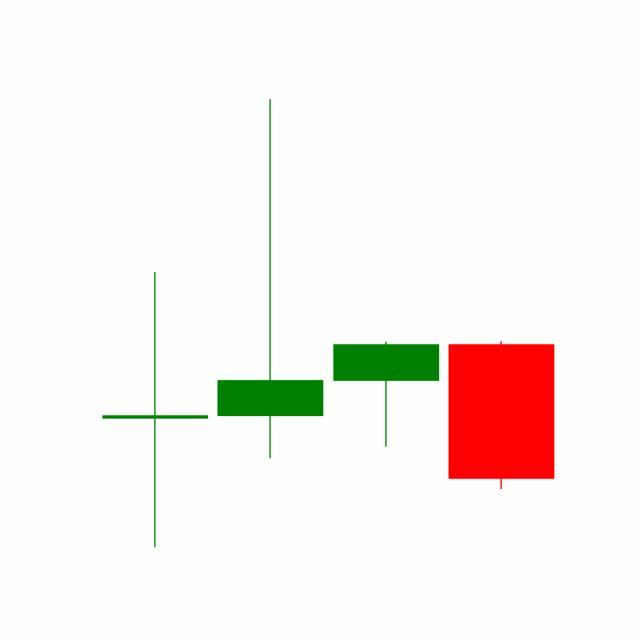Marubozu: (444, 339, 560, 492)
